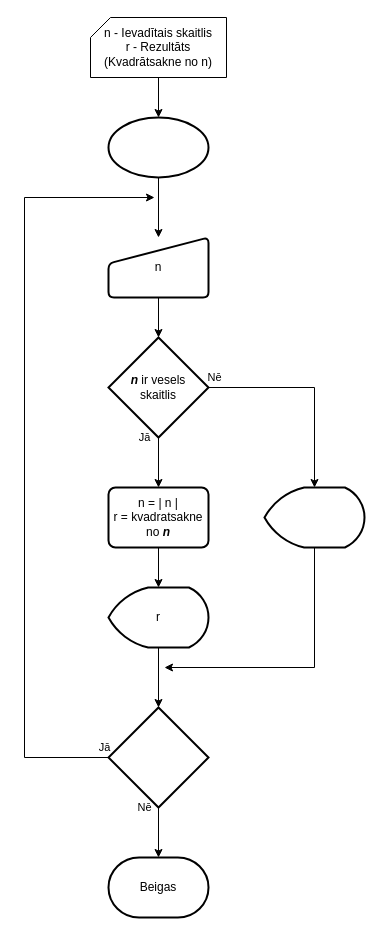
Some shapes in this 383 by 936 pixel diagram are drawn without their labels. The shapes that lost their labels are listed below. From the top down, each one's box as (x1, y1, x2, y2) in pixels, then its label:
(107, 116, 209, 178): Sākums
(263, 486, 365, 548): "Nav ievadīts vesels skaitlis!"
(107, 706, 209, 808): Atkārtot
